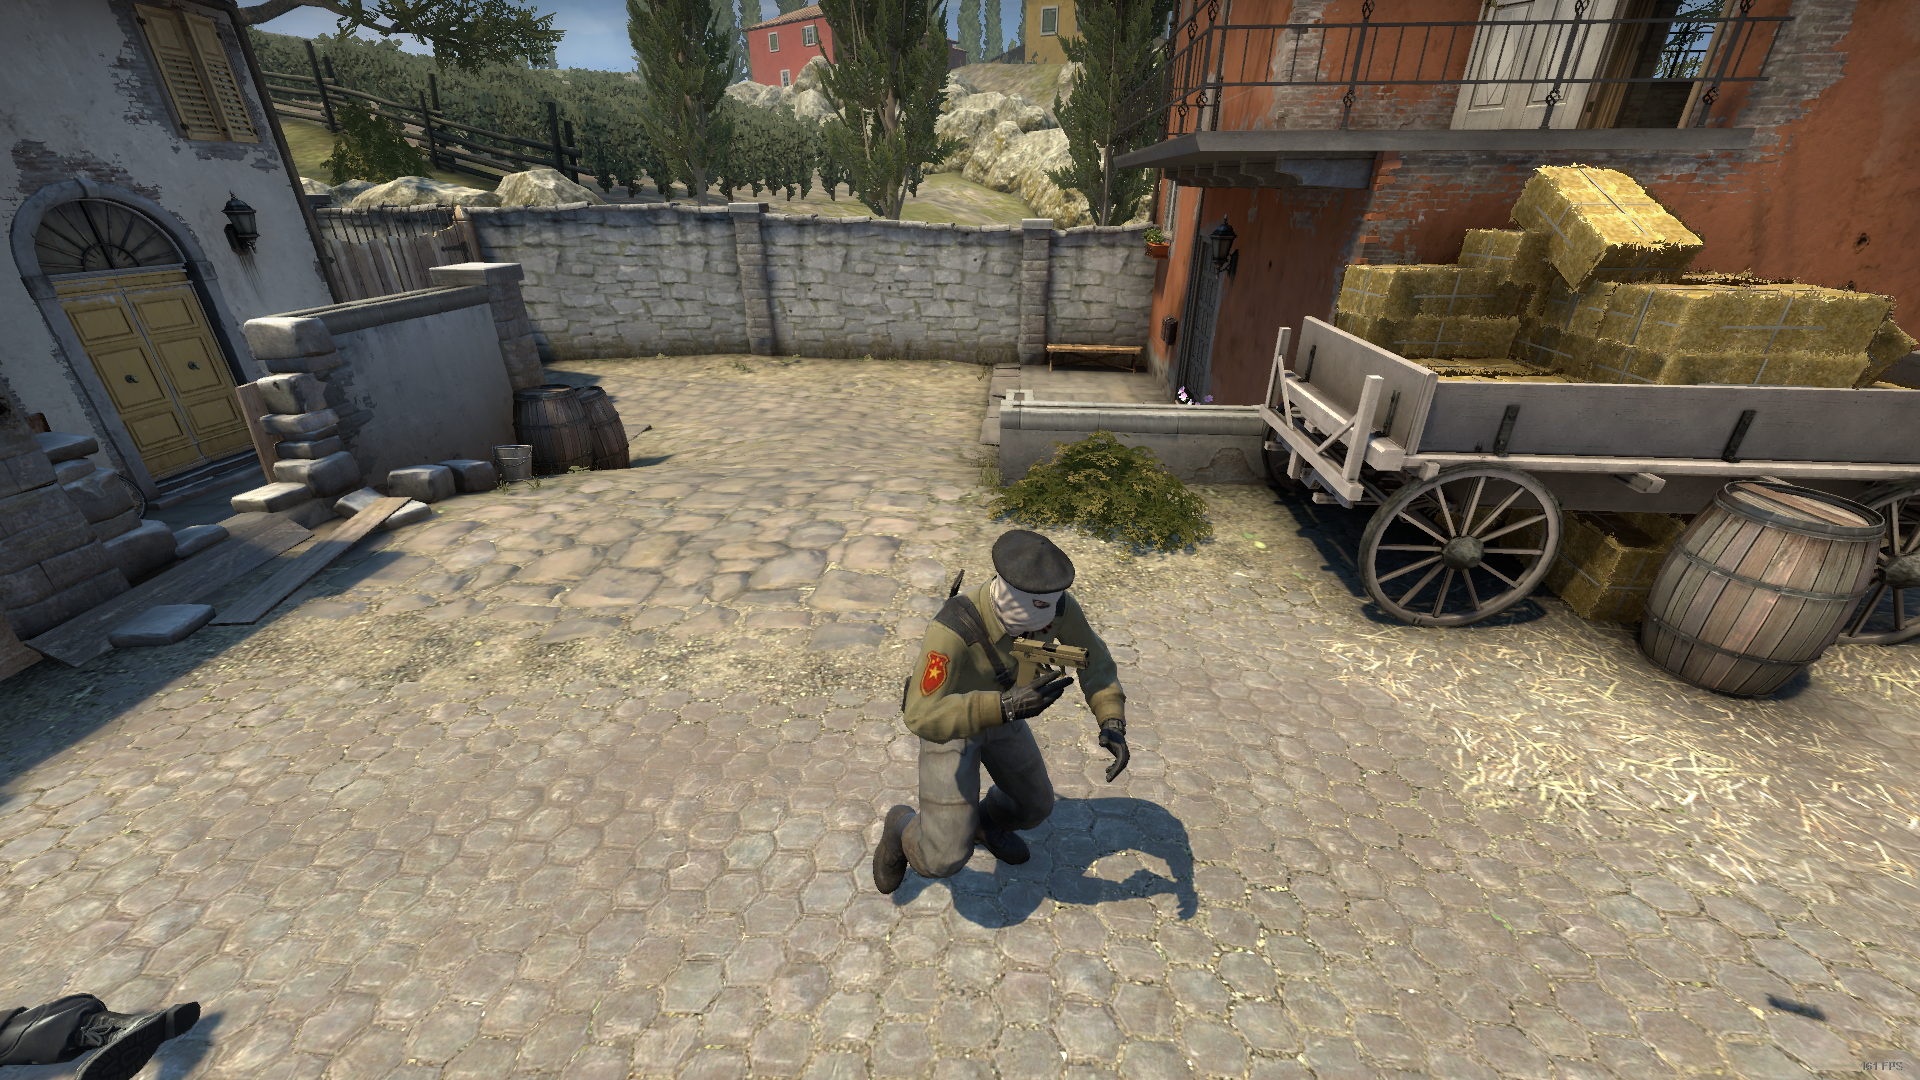t: (876, 529, 1130, 895)
